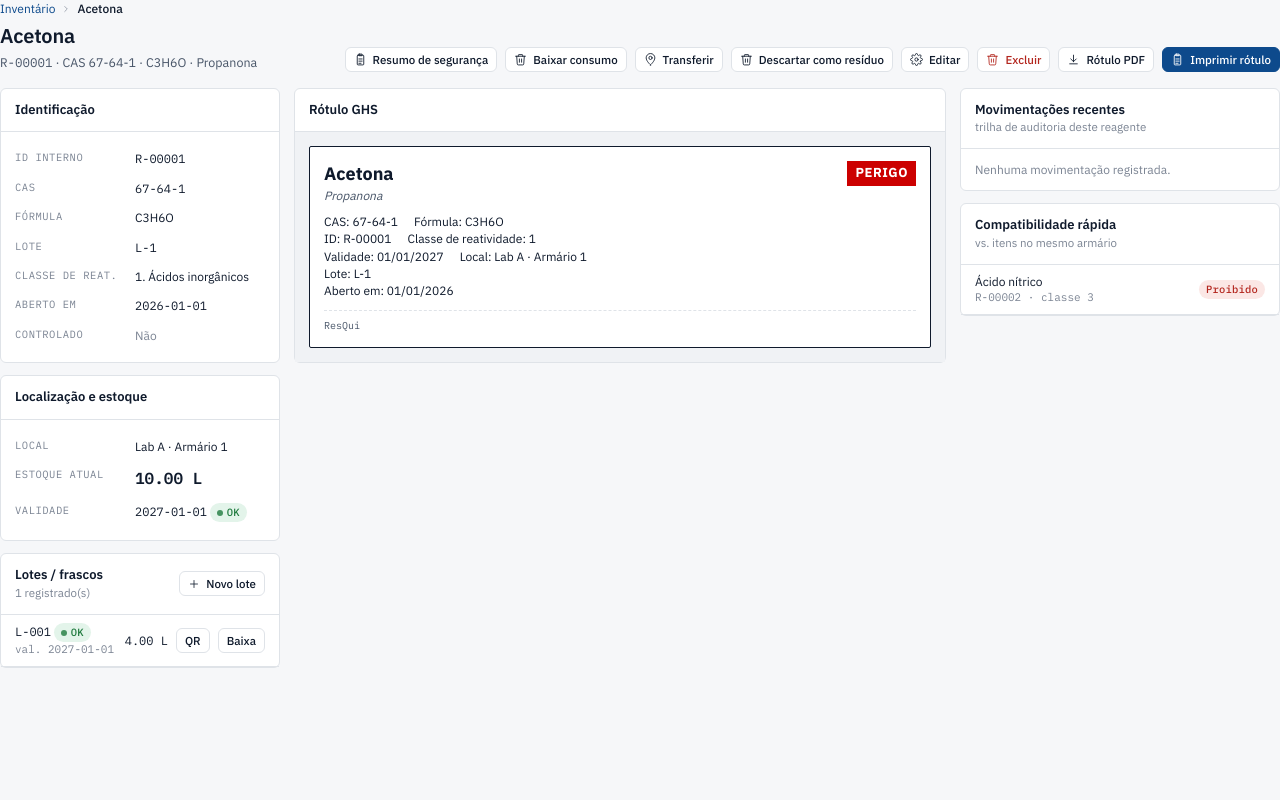
DetalheScreen — confirmações em modal › baixa de lote acima do disponível mostra erro no modal e não chama a API
Click the button "Baixa".
click(241, 640)  # box [218,628,265,653]
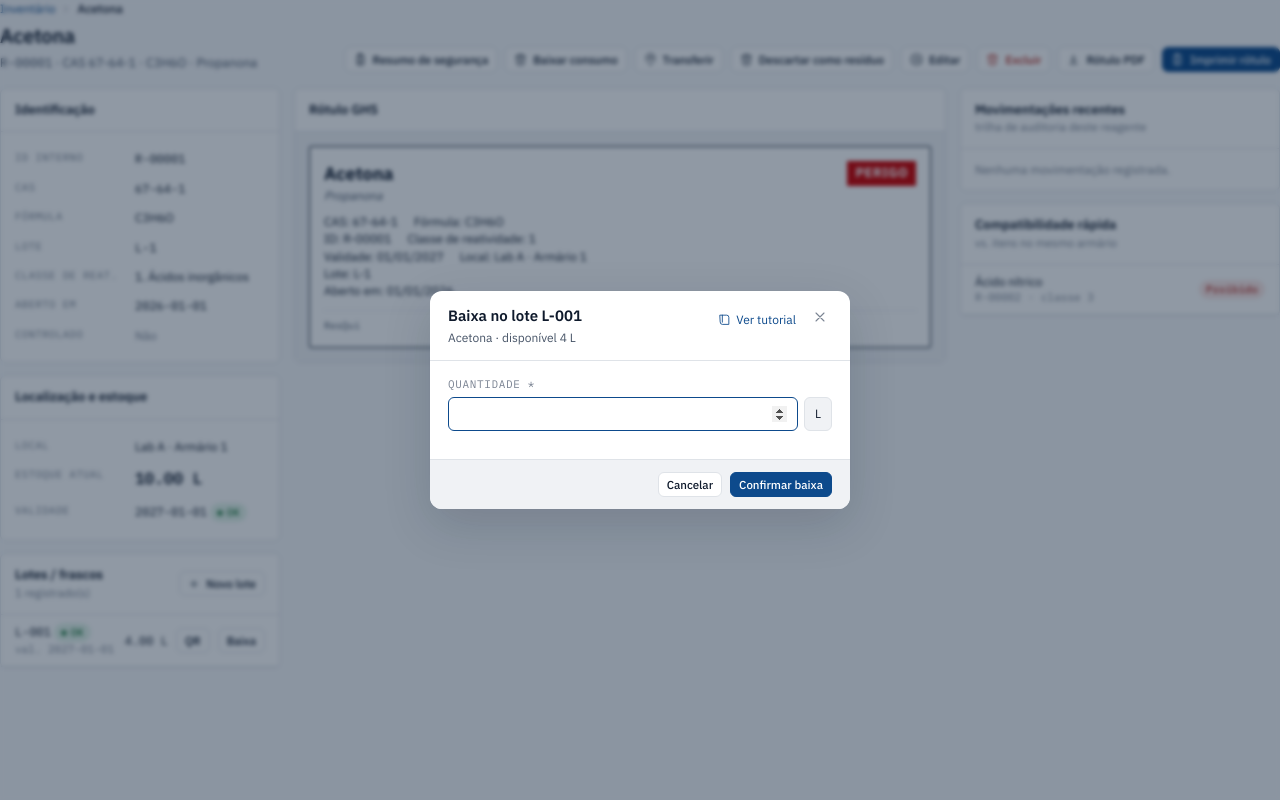
Type "5" into the number field labelled "Quantidade *".
click(623, 414); type("5")  # box [448,397,798,431]
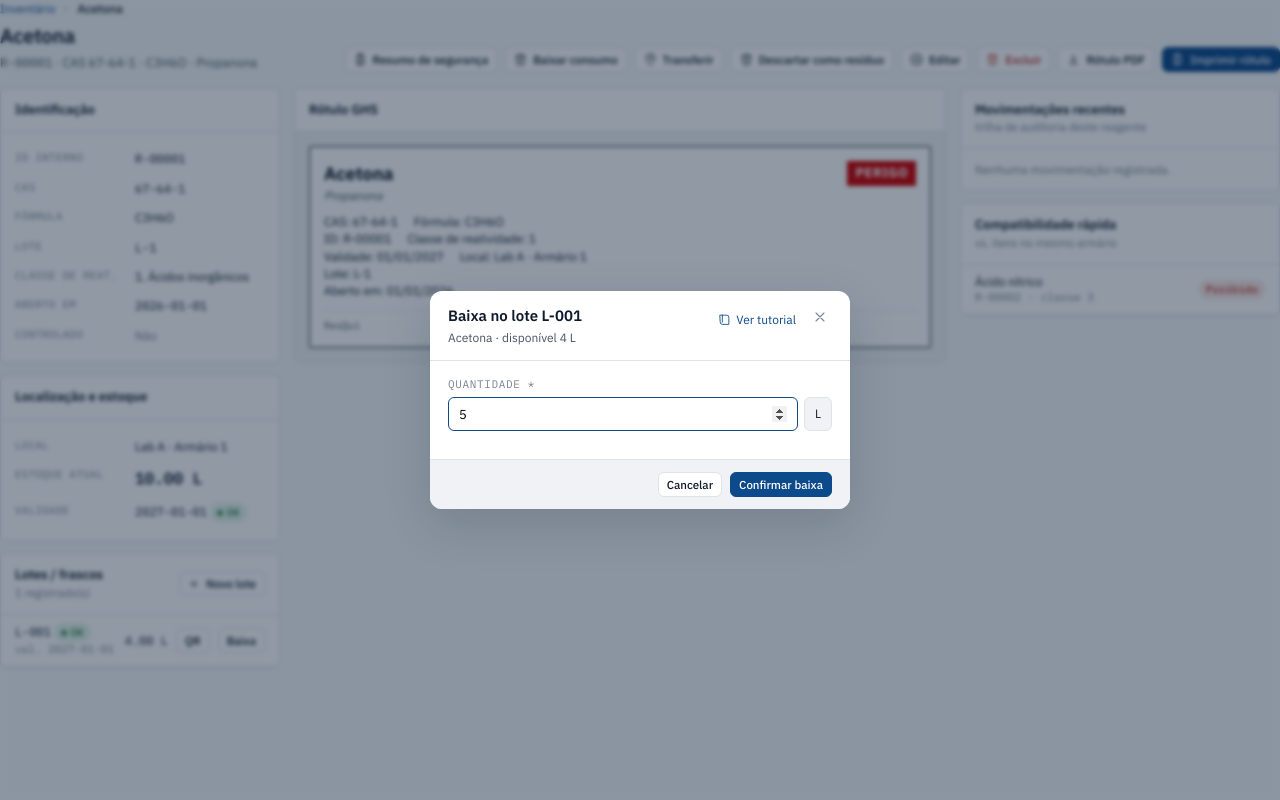
Click the button "Confirmar baixa".
click(781, 484)  # box [730,472,832,497]
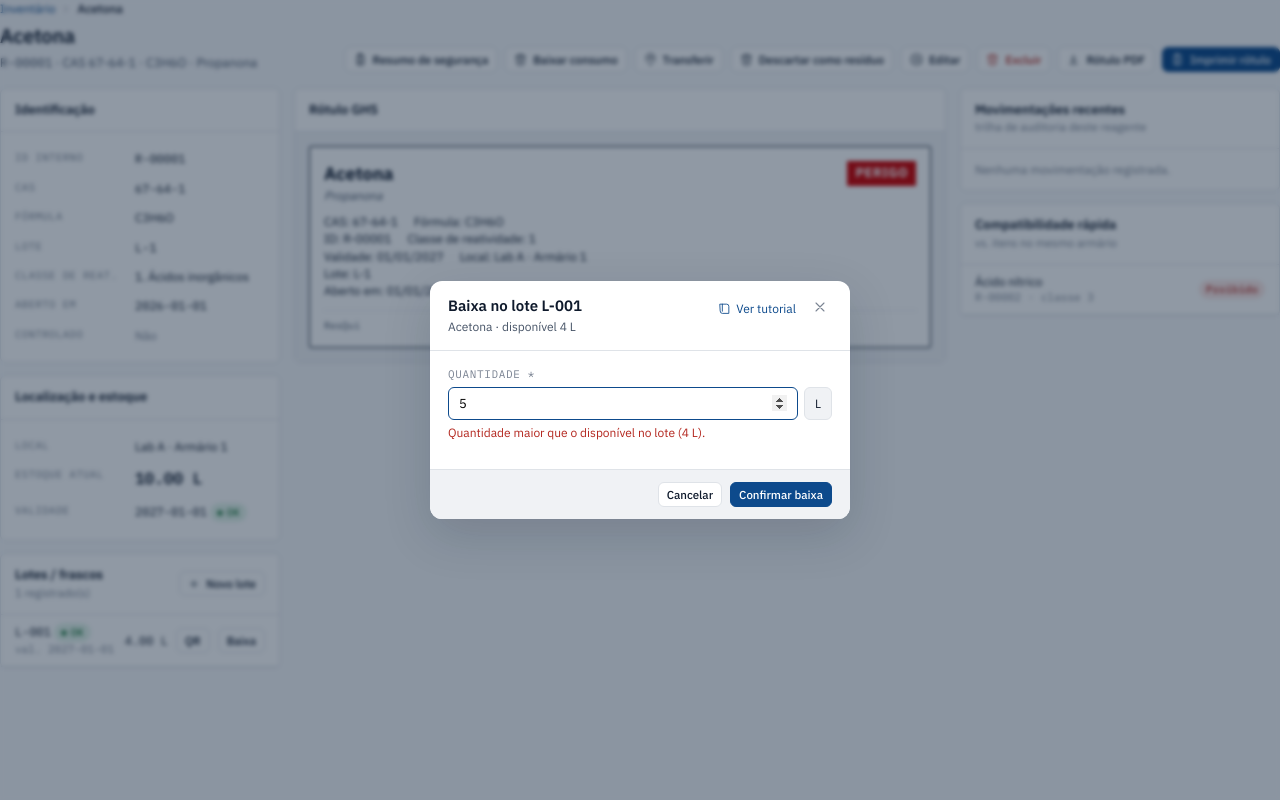
Expected: the text "Quantidade maior que o disponível no lote (4 L)." is shown, [448,425,705,440]
